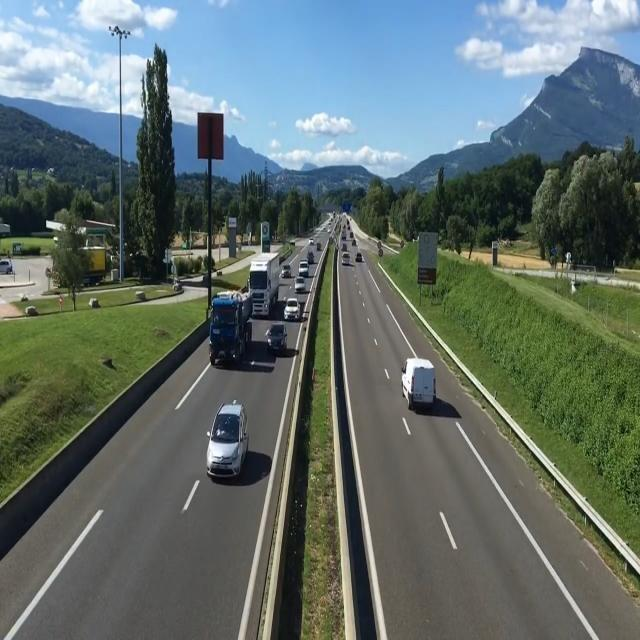Car: (206, 401, 250, 477), (265, 323, 288, 355), (284, 298, 301, 319), (281, 264, 292, 278)
Truck: (206, 288, 253, 366), (248, 252, 280, 316), (297, 258, 309, 277), (294, 276, 306, 292), (342, 252, 350, 265)
Van: (398, 357, 436, 404)
